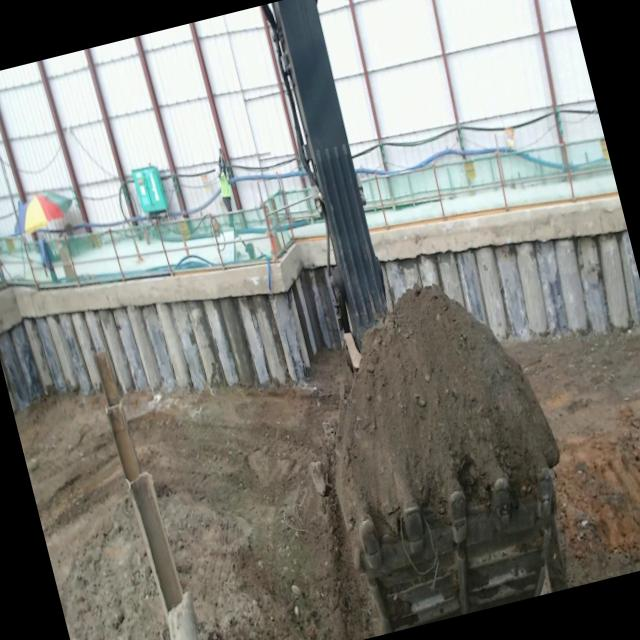red-sand: (123, 355, 375, 640), (335, 285, 558, 537), (14, 393, 169, 640), (504, 333, 640, 588)
